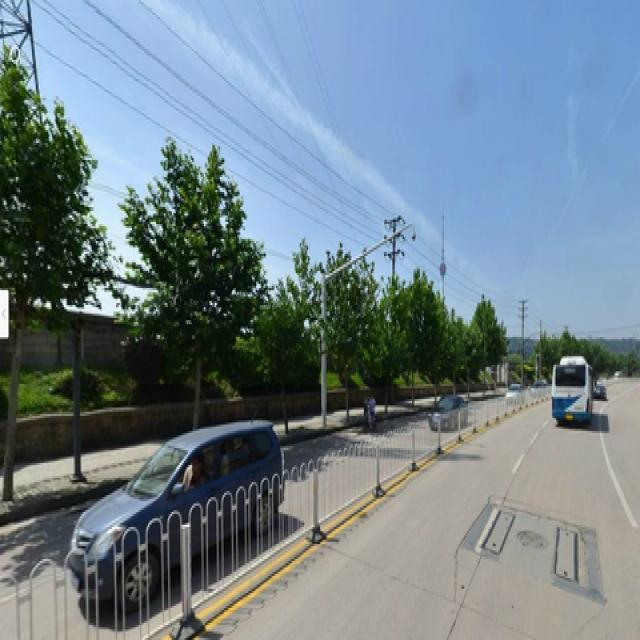meta: (150, 164, 242, 418)
